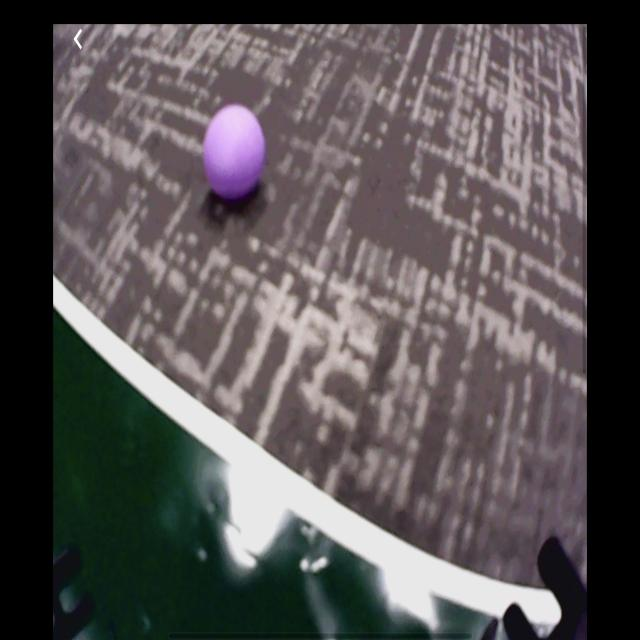ball: (203, 105, 266, 201)
